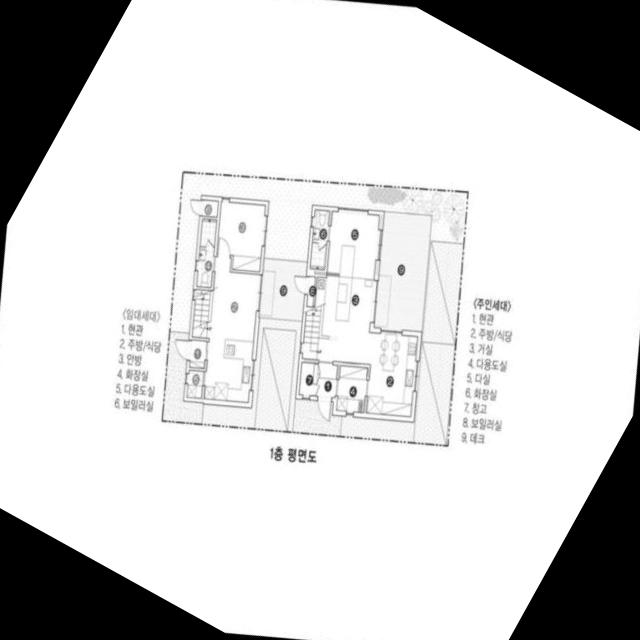background: (0, 0, 640, 640)
space_bedroom: (315, 211, 380, 364), (217, 202, 266, 272)
space_front: (313, 364, 338, 398), (190, 340, 206, 369)
space_kitchen: (204, 257, 259, 403), (366, 333, 418, 417)
space_multipurpose_space: (337, 366, 368, 413), (187, 370, 204, 399)
space_other: (299, 362, 316, 396), (202, 200, 218, 217), (307, 277, 316, 307)
space_staircase: (302, 306, 321, 360), (192, 289, 211, 338)
space_toilet: (196, 219, 217, 288), (310, 210, 330, 270)
